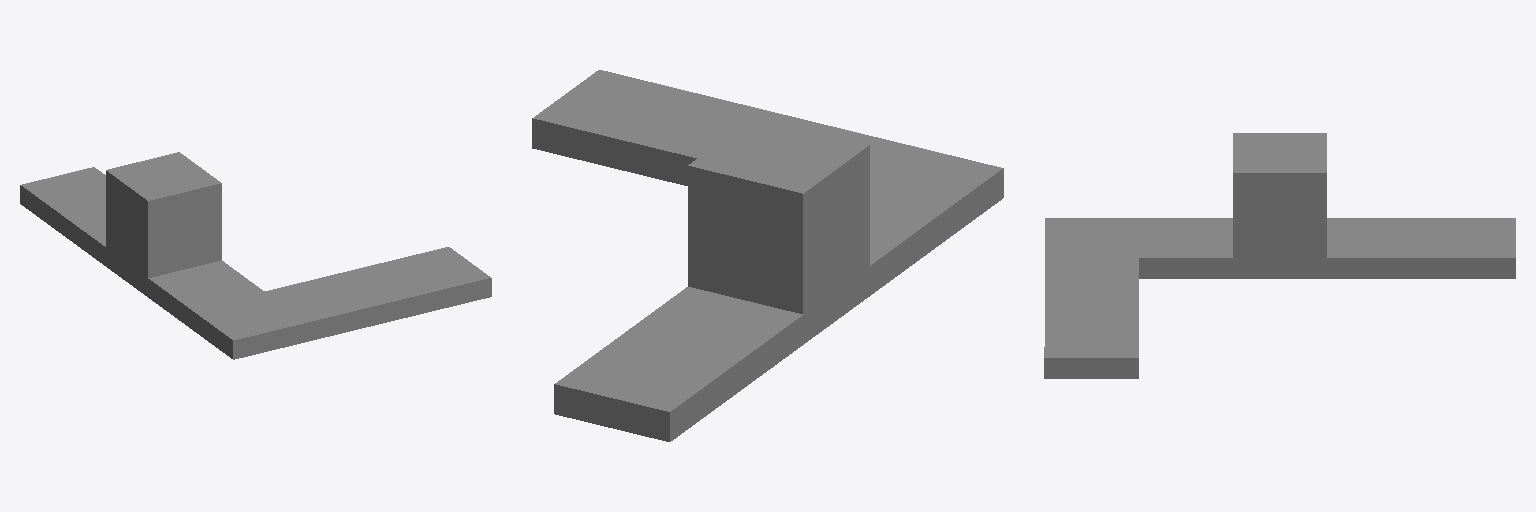
URDF robot description (big_part_robot):
<?xml version="1.0"?>
<robot name="big_part_robot">
  <link name="long_link">
    <visual>
      <origin xyz="0 0 0" rpy="0 0 0"/>
      <geometry>
        <box size="0.04 0.2 0.01"/>
      </geometry>
      <material name="gray">
        <color rgba="0.6 0.6 0.6 1.0"/>
      </material>
    </visual>

    <collision>
      <origin xyz="0 0 0" rpy="0 0 0"/>
      <geometry>
        <box size="0.04 0.2 0.01"/>
      </geometry>
    </collision>

    <inertial>
      <origin xyz="0 0 0" rpy="0 0 0"/>
      <mass value="0.1"/>
      <inertia ixx="0.001" ixy="0.0" ixz="0.0"
               iyy="0.001" iyz="0.0"
               izz="0.001"/>
    </inertial>
  </link>

  <link name="short_link">
    <visual>
      <origin xyz="0 0 0" rpy="0 0 1.57"/>
      <geometry>
        <box size="0.04 0.1 0.01"/>
      </geometry>
      <material name="gray">
        <color rgba="0.6 0.6 0.6 1.0"/>
      </material>
    </visual>

    <collision>
      <origin xyz="0 0 0" rpy="0 0 1.57"/>
      <geometry>
        <box size="0.04 0.1 0.01"/>
      </geometry>
    </collision>

    <inertial>
      <origin xyz="0 0 0" rpy="0 0 0"/>
      <mass value="0.1"/>
      <inertia ixx="0.001" ixy="0.0" ixz="0.0"
               iyy="0.001" iyz="0.0"
               izz="0.001"/>
    </inertial>
  </link>

  <link name="cube_link">
    <visual>
      <origin xyz="0 0 0" rpy="0 0 0"/>
      <geometry>
        <box size="0.04 0.04 0.04"/>
      </geometry>
      <material name="gray">
        <color rgba="0.6 0.6 0.6 1.0"/>
      </material>
    </visual>

    <collision>
      <origin xyz="0 0 0" rpy="0 0 0"/>
      <geometry>
        <box size="0.04 0.04 0.04"/>
      </geometry>
    </collision>

    <inertial>
      <origin xyz="0 0 0" rpy="0 0 0"/>
      <mass value="0.1"/>
      <inertia ixx="0.001" ixy="0.0" ixz="0.0"
               iyy="0.001" iyz="0.0"
               izz="0.001"/>
    </inertial>
  </link>


  <joint name="long_to_short" type="fixed">
    <!-- The base_link is 0.01m tall, link1 is 0.02m tall -->
    <!-- So we raise it by 0.5*(0.01 + 0.02) = 0.015 to stack flat -->
    <origin xyz="0.07 -0.08 0.0" rpy="0 0 0"/>
    <parent link="long_link"/>
    <child link="short_link"/>
  </joint>

  <joint name="long_to_box" type="fixed">
    <!-- The base_link is 0.01m tall, link1 is 0.02m tall -->
    <!-- So we raise it by 0.5*(0.01 + 0.02) = 0.015 to stack flat -->
    <origin xyz="0.0 0.0 0.025" rpy="0 0 0"/>
    <parent link="long_link"/>
    <child link="cube_link"/>
  </joint>

</robot>

--- Facts derived from the render (not from the file) ---
Views: 3 orthographic renders of the robot side by side, from view 1: azimuth 30°, elevation 25°; view 2: azimuth 150°, elevation 25°; view 3: azimuth 270°, elevation 25°.
Robot: big_part_robot — 3 links, 2 joints (2 fixed); root link long_link; default pose: all joints at 0.
Links seen in each view (by area): view 1: long_link, cube_link, short_link; view 2: long_link, cube_link, short_link; view 3: long_link, cube_link, short_link.
Link boxes in pixels (x1,y1,x2,y2): long_link: [20, 167, 306, 359]; cube_link: [106, 152, 221, 277]; short_link: [265, 247, 491, 341]; long_link: [554, 140, 1003, 441]; cube_link: [688, 117, 869, 314]; short_link: [532, 70, 886, 185]; long_link: [1045, 218, 1515, 278]; cube_link: [1233, 133, 1326, 257]; short_link: [1044, 258, 1138, 378].
Size in the robot's own frame: 0.14 by 0.2 by 0.05 metres.
Geometry: primitives only (box / cylinder / sphere), no mesh files.